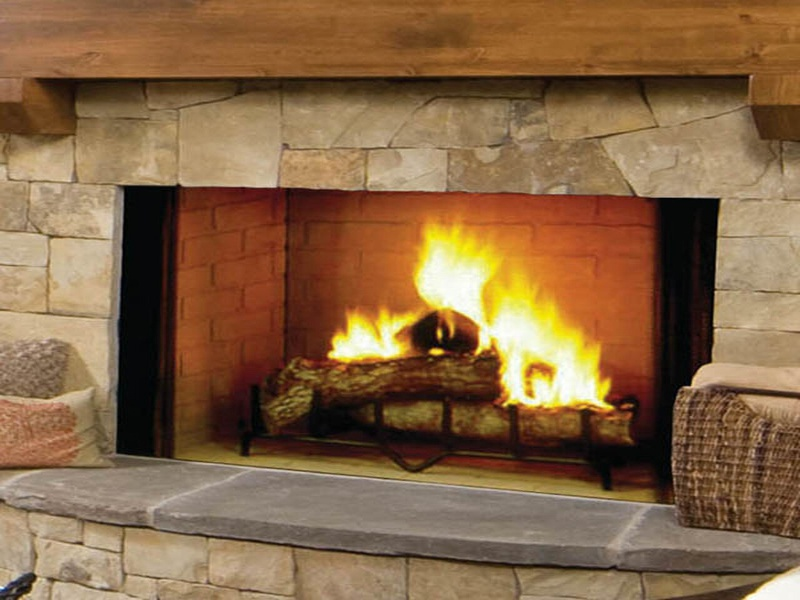fire: (327, 218, 615, 408)
